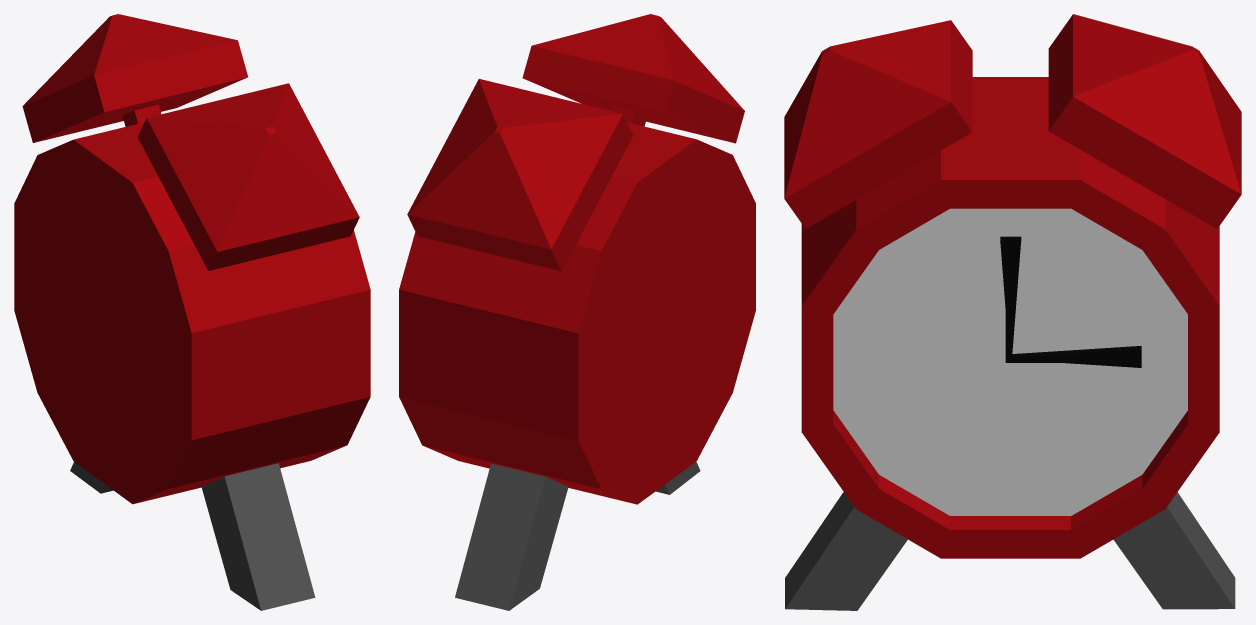
The model's file is horloge_physique.fbx.
3 renders of one model, left to right at view 1: azimuth 30°, elevation 25°; view 2: azimuth 150°, elevation 25°; view 3: azimuth 270°, elevation 25°, orthographic. The views are drawn at different scales.
Visible parts, largest first — view 1: Cube; view 2: Cube; view 3: Cube.
Boxes of the visible parts, x1,y1,x2,y2 form: Cube: (14, 14, 370, 610); Cube: (399, 14, 755, 610); Cube: (784, 14, 1241, 610).
Bounding box in the file's own units: 82.37 × 204 × 155.
